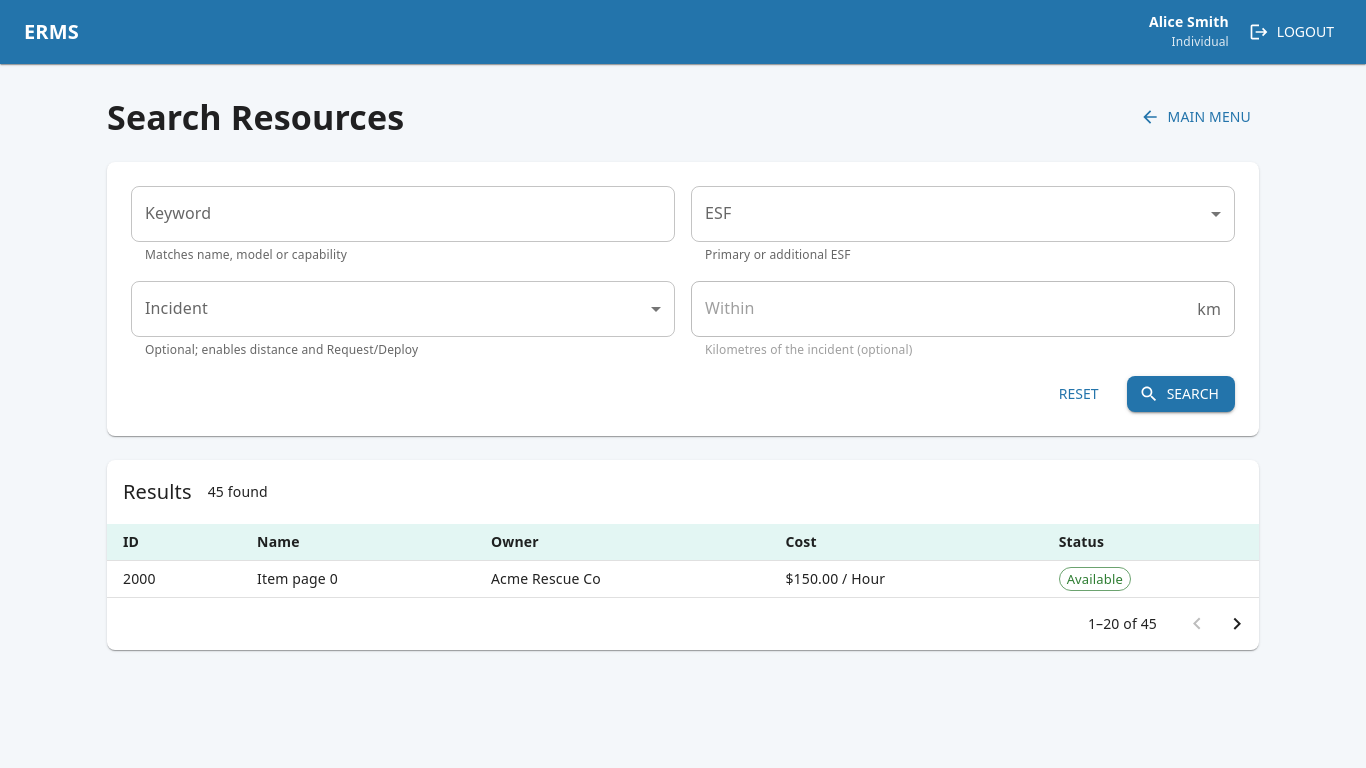
Scenario: SearchResourcesPage › paginates through the server pages
The image size is (1366, 768).
Check: the column heading "Item page 0" is shown, box [241,561,475,598]
Check: the text "45 found" is shown, box [208,482,268,502]
Click the button named "next page".
click(1237, 624)  # box [1217,604,1257,644]
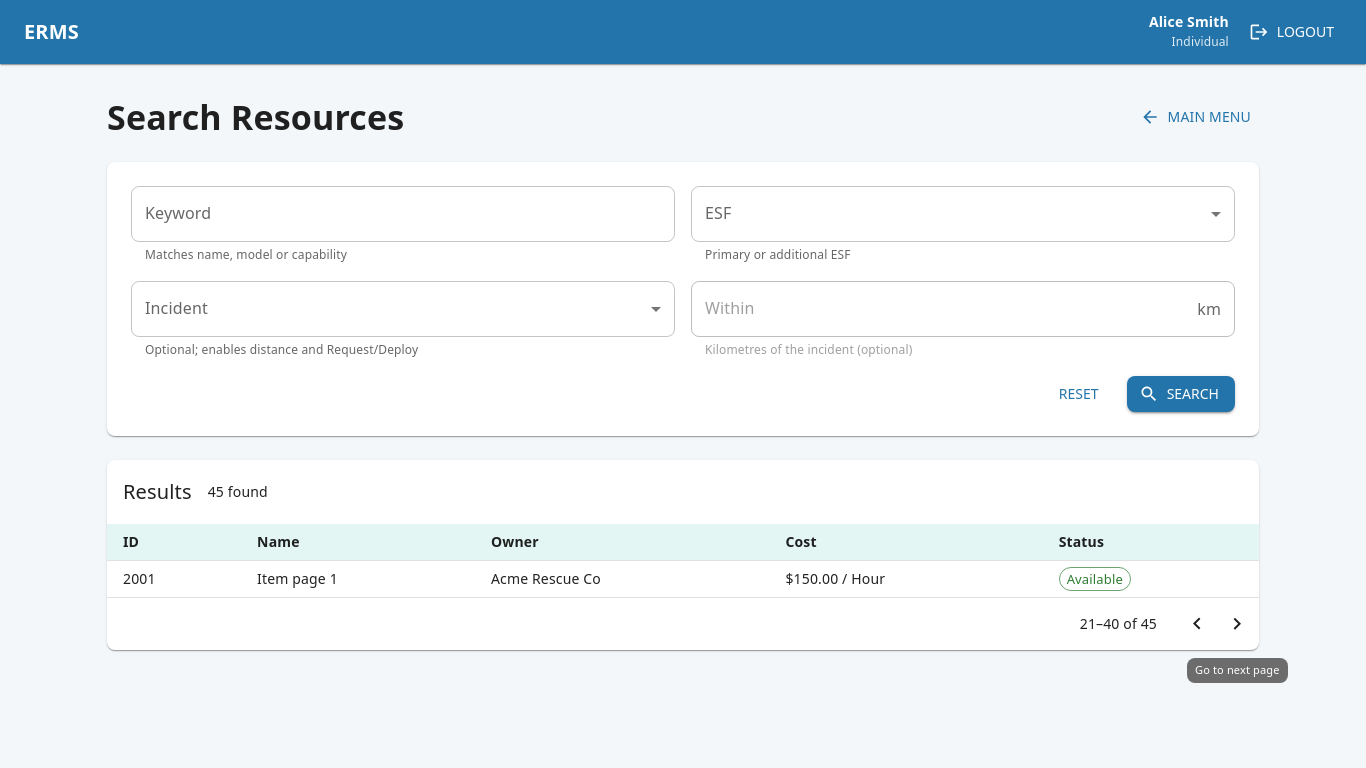
Check: the column heading "Item page 1" is shown, box [241,561,475,598]
